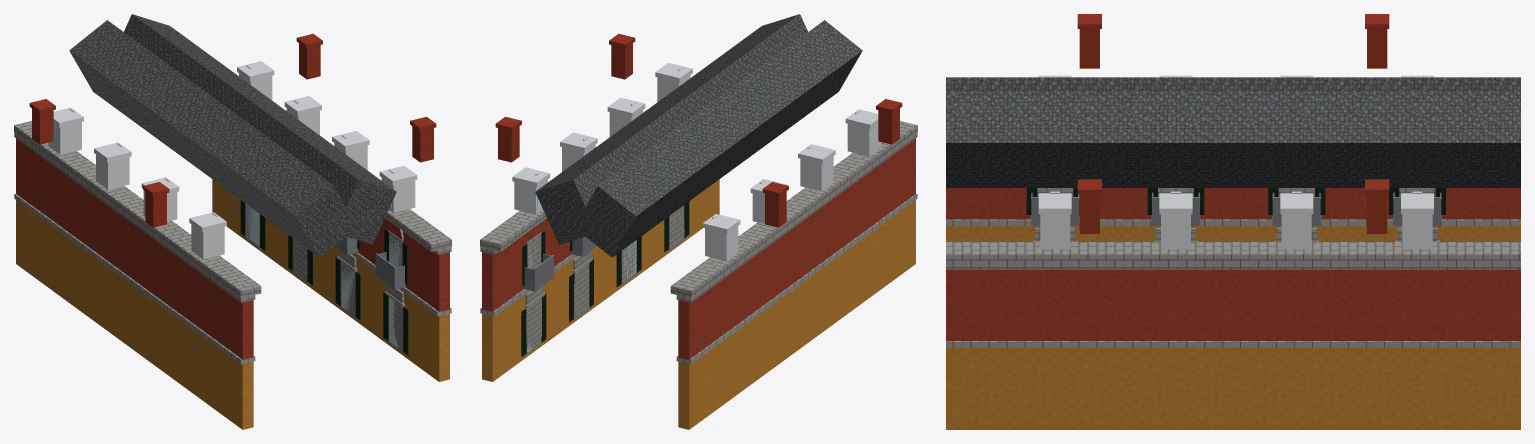
File: turin_palazzo_facades.glb
3 views of the same model, side by side, from view 1: azimuth 30°, elevation 25°; view 2: azimuth 150°, elevation 25°; view 3: azimuth 270°, elevation 25° (orthographic). The views are drawn at different scales.
Parts seen in each view (by area): view 1: MansardSlateRoof, PalazzoFloor1Ochre, PalazzoFloor2Rose, PalazzoCornices, DormersZinc, ChimneysBrick, WindowFrames, WindowShutters, WindowGlazing, Balconies, Pediments; view 2: MansardSlateRoof, PalazzoFloor1Ochre, PalazzoFloor2Rose, PalazzoCornices, DormersZinc, ChimneysBrick, WindowFrames, WindowShutters, Balconies, Pediments; view 3: MansardSlateRoof, PalazzoFloor1Ochre, PalazzoFloor2Rose, PalazzoCornices, DormersZinc, ChimneysBrick, Balconies, WindowShutters, WindowFrames, Pediments.
Boxes of the visible parts, x1,y1,x2,y2 form: MansardSlateRoof: [69, 14, 396, 257]; PalazzoFloor1Ochre: [16, 179, 449, 429]; PalazzoFloor2Rose: [16, 138, 449, 359]; PalazzoCornices: [14, 121, 451, 364]; DormersZinc: [48, 61, 417, 259]; ChimneysBrick: [29, 33, 436, 227]; WindowFrames: [245, 203, 403, 353]; WindowShutters: [240, 200, 408, 355]; WindowGlazing: [246, 203, 401, 347]; Balconies: [335, 236, 405, 289]; Pediments: [337, 229, 404, 306]; MansardSlateRoof: [535, 14, 862, 257]; PalazzoFloor1Ochre: [482, 179, 915, 429]; PalazzoFloor2Rose: [482, 138, 915, 359]; PalazzoCornices: [480, 121, 917, 364]; DormersZinc: [512, 62, 881, 260]; ChimneysBrick: [495, 33, 902, 227]; WindowFrames: [526, 205, 684, 355]; WindowShutters: [521, 201, 689, 356]; Balconies: [524, 236, 596, 291]; Pediments: [524, 221, 592, 307]; MansardSlateRoof: [946, 77, 1520, 187]; PalazzoFloor1Ochre: [946, 226, 1520, 429]; PalazzoFloor2Rose: [946, 188, 1520, 340]; PalazzoCornices: [946, 219, 1520, 347]; DormersZinc: [1038, 75, 1433, 248]; ChimneysBrick: [1077, 14, 1389, 233]; Balconies: [1031, 192, 1441, 225]; WindowShutters: [1026, 188, 1445, 214]; WindowFrames: [1037, 188, 1435, 196]; Pediments: [1033, 228, 1439, 241].
Bounding box in the file's own units: 14.45 × 10.79 × 20.
9 materials, 6 textured.
